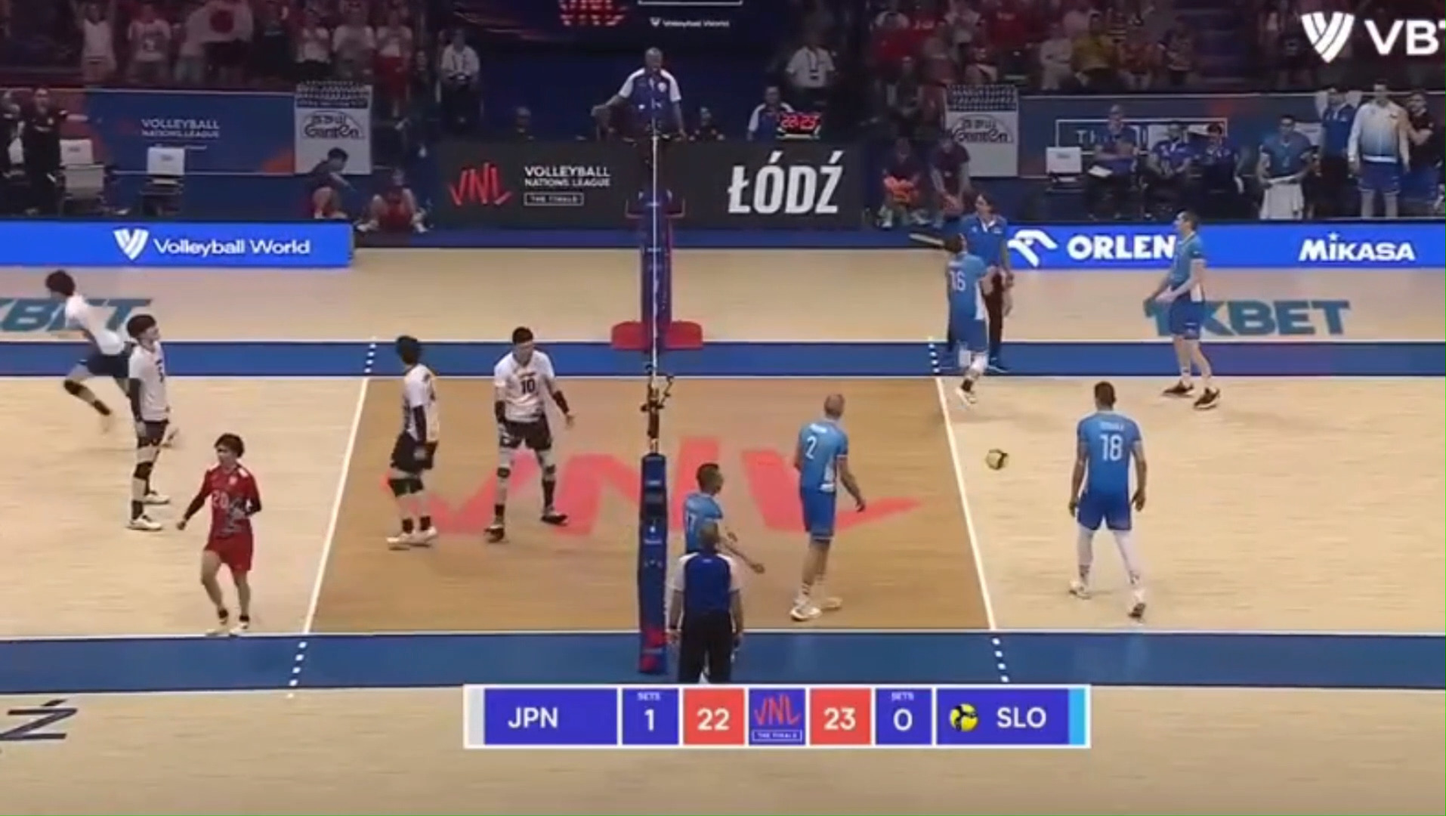ball: (984, 448, 1009, 470)
player: (1068, 382, 1147, 618), (789, 393, 866, 622), (1151, 211, 1219, 409), (681, 462, 765, 573), (944, 234, 997, 402)
player 1: (486, 326, 572, 542), (176, 432, 261, 634), (45, 270, 129, 422), (387, 335, 439, 549), (125, 314, 170, 531)
referee: (592, 48, 685, 217), (667, 520, 744, 683), (959, 193, 1012, 371)
